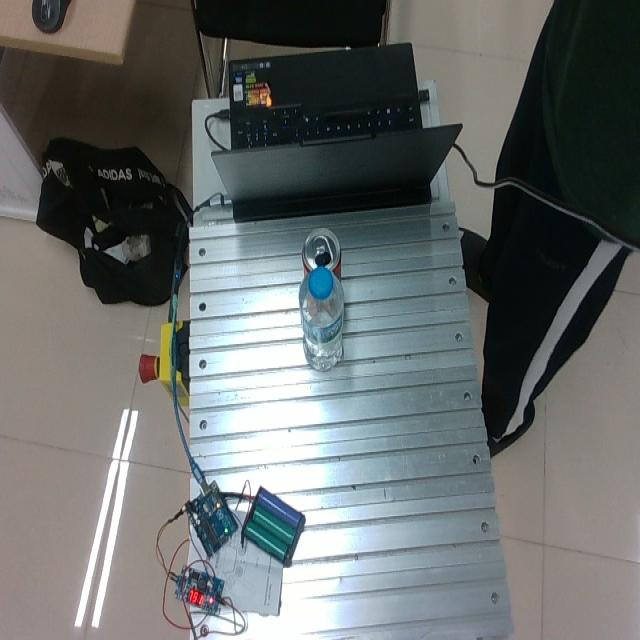coca: (301, 228, 342, 281)
lavie: (298, 260, 345, 371)
